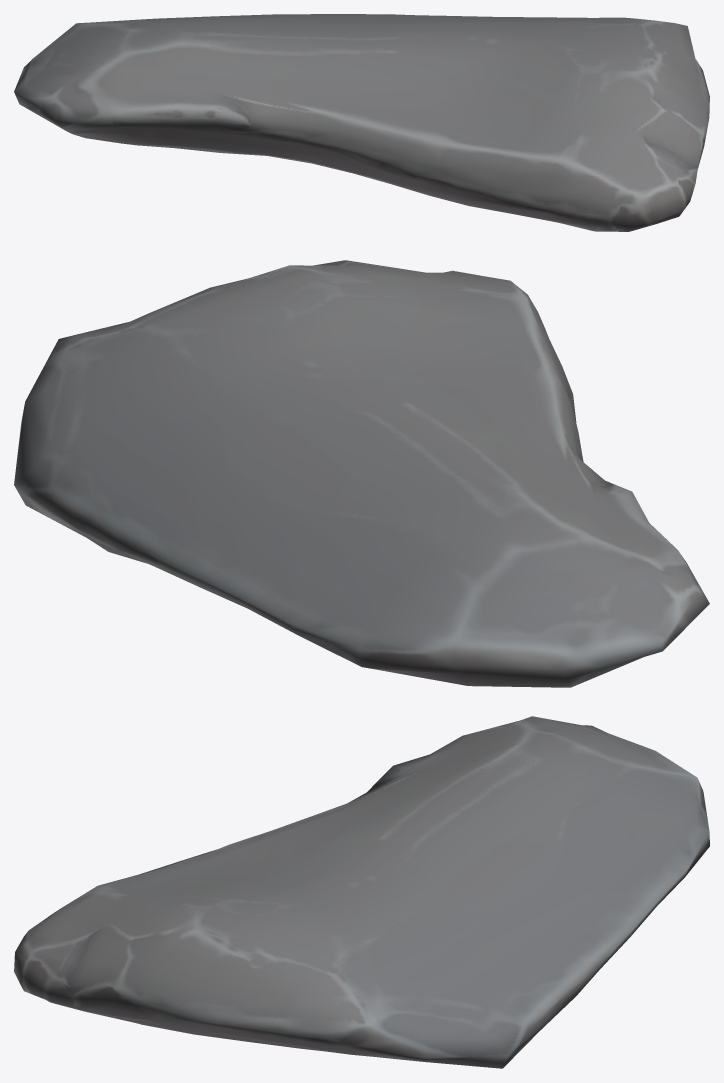
File: rock_big_002.fbx
3 renders of one model, top to bottom at view 1: azimuth 30°, elevation 25°; view 2: azimuth 150°, elevation 25°; view 3: azimuth 270°, elevation 25°, orthographic. The views are drawn at different scales.
Parts seen in each view (by area): view 1: rock_big_002; view 2: rock_big_002; view 3: rock_big_002.
Boxes of the visible parts, x1=… form: rock_big_002: x1=14, y1=14, x2=709, y2=231; rock_big_002: x1=14, y1=260, x2=709, y2=687; rock_big_002: x1=14, y1=716, x2=709, y2=1068.
Bounding box in the file's own units: 6.63 × 1.51 × 6.37.
